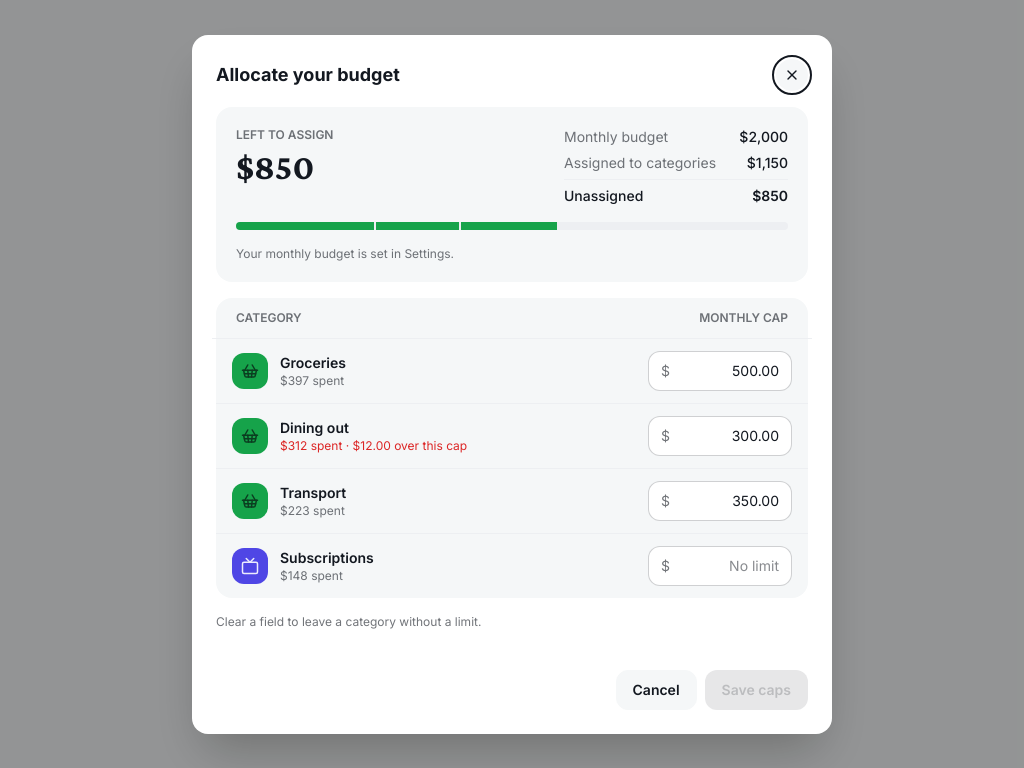
Test: AC9-AC10: the save › leaves the modal’s Cancel live while a save is in flight
Step 1. Replace the text in the field labelled "$" in the row of "Transport" with "250" → (728, 500), box [678,482,779,520]
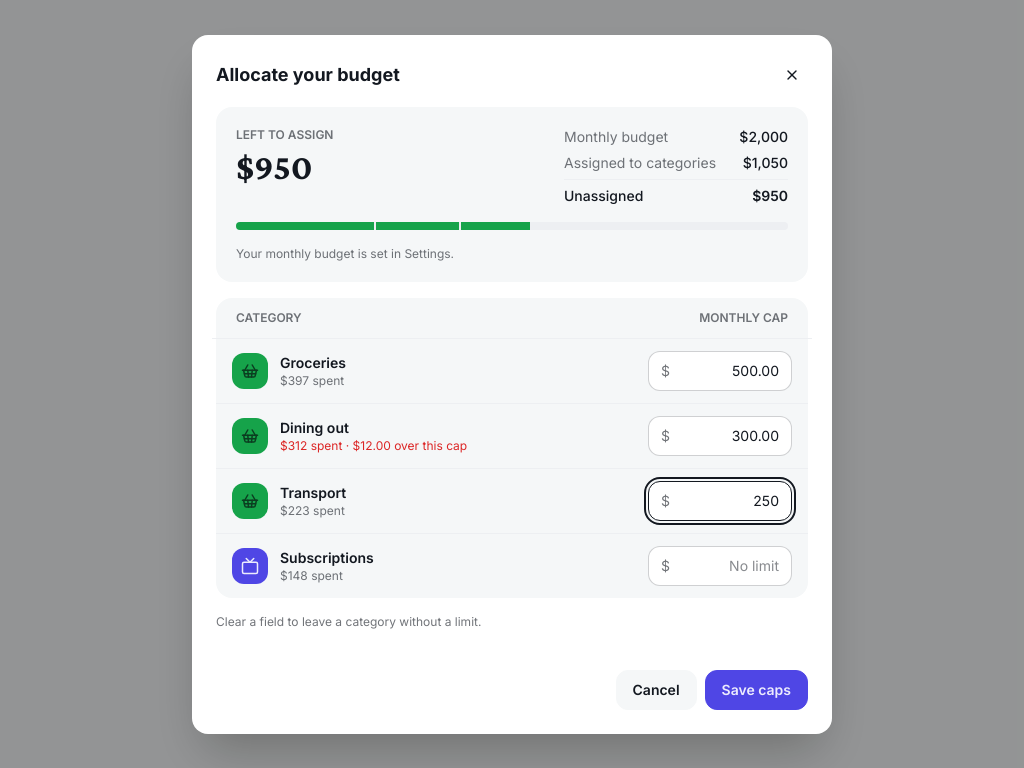
Step 2. Click the button "Save caps" → (756, 690), box [705,670,808,710]
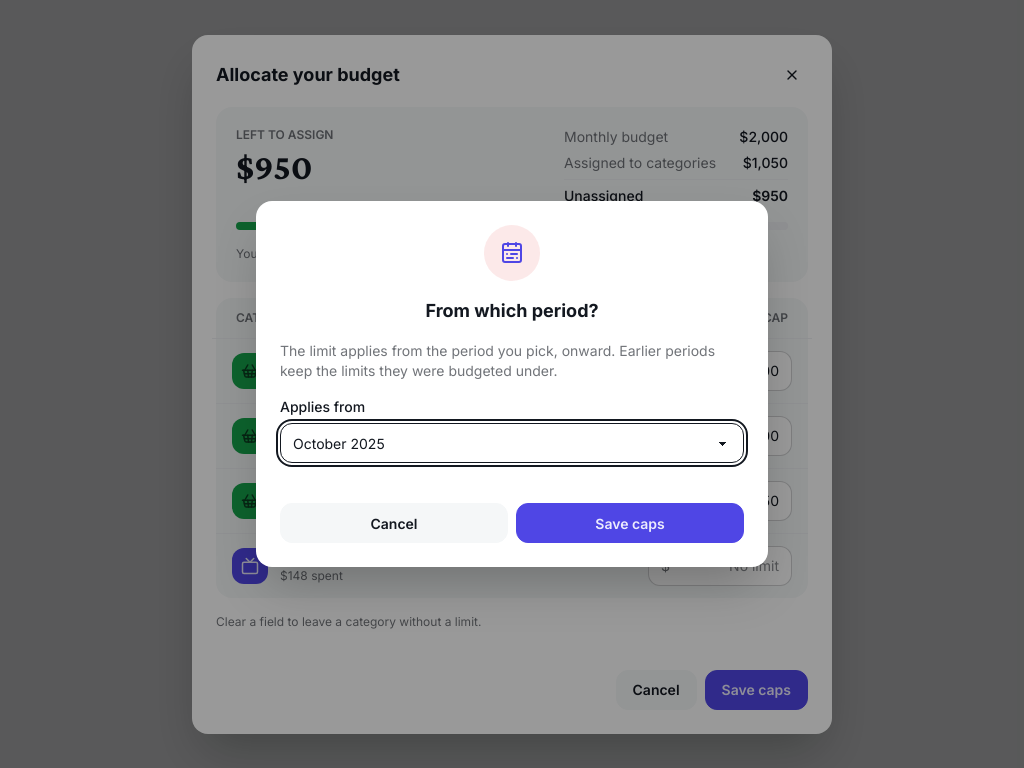
Step 3. Click the button "Save caps" → (630, 523), box [516,503,744,543]
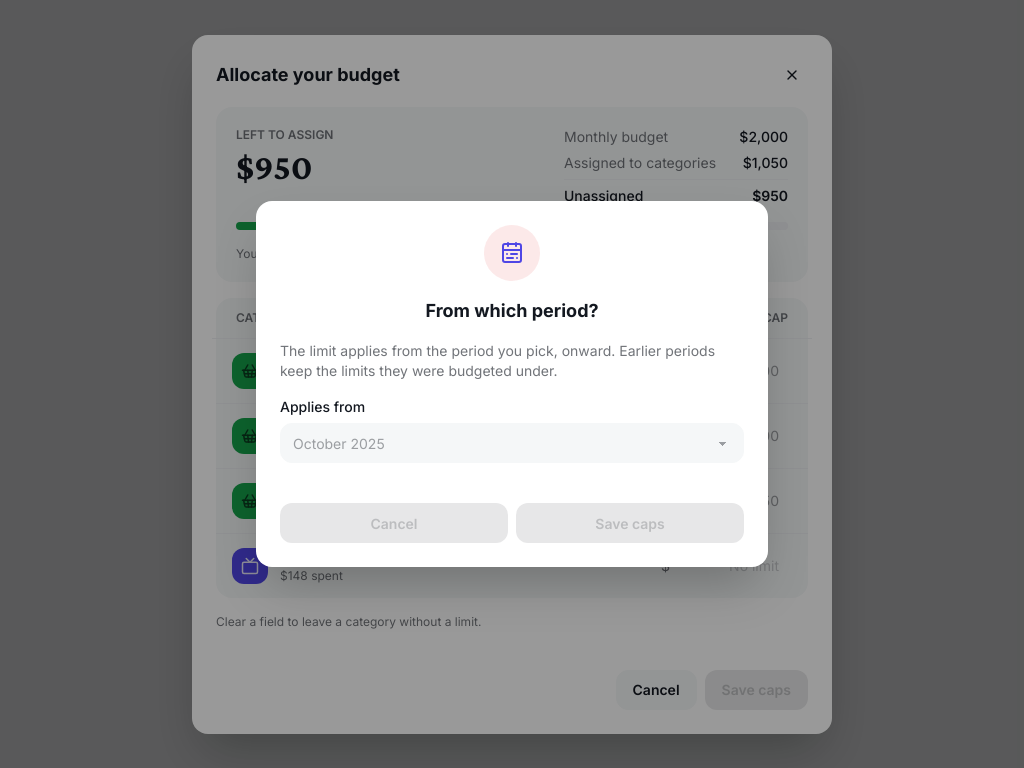
expect the button "Cancel" below "Subscriptions" is enabled: met, box [616,670,696,710]
expect the button "Save caps" is disabled: met, box [516,503,744,543]
expect the button "Cancel" is disabled: met, box [280,503,508,543]
